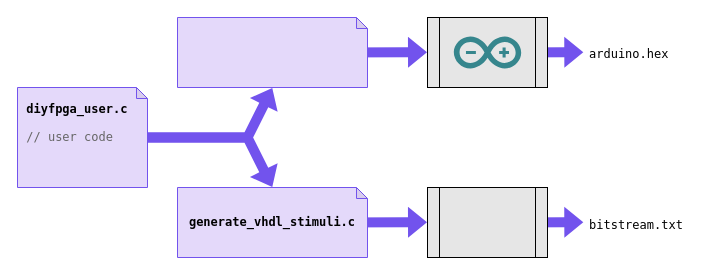
This 715x275 diagram has some shape labels left out. Each missing label, with the box of its shape:
diyfpga-compile.ino: (176, 16, 368, 88)
gcc: (426, 186, 548, 258)
